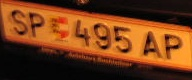4: (71, 16, 91, 49)
5: (114, 24, 132, 55)
9: (93, 19, 111, 51)
A: (141, 30, 163, 61)
P: (163, 32, 184, 62), (28, 10, 45, 40)
S: (9, 7, 27, 38)
